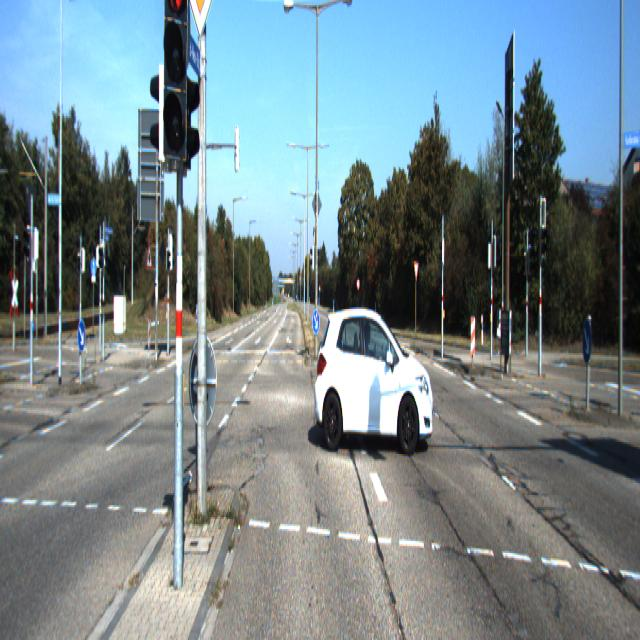Car: (312, 299, 433, 457)
